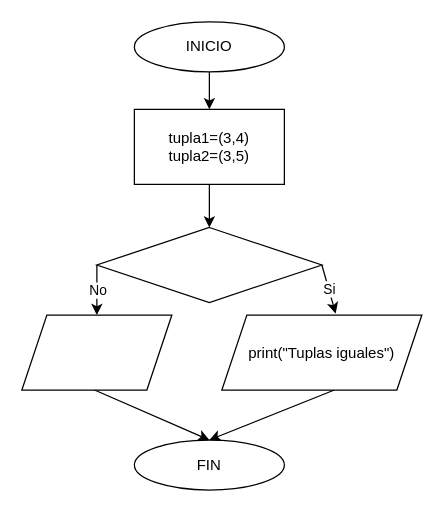
Image size: 444x513. Some labels were removed from this diagram. The centre of each missing label's shape, as x and y in pixels:
if tupla1==tupla2: pixel 209 264
print("Tuplas diferentes"): pixel 96 352
